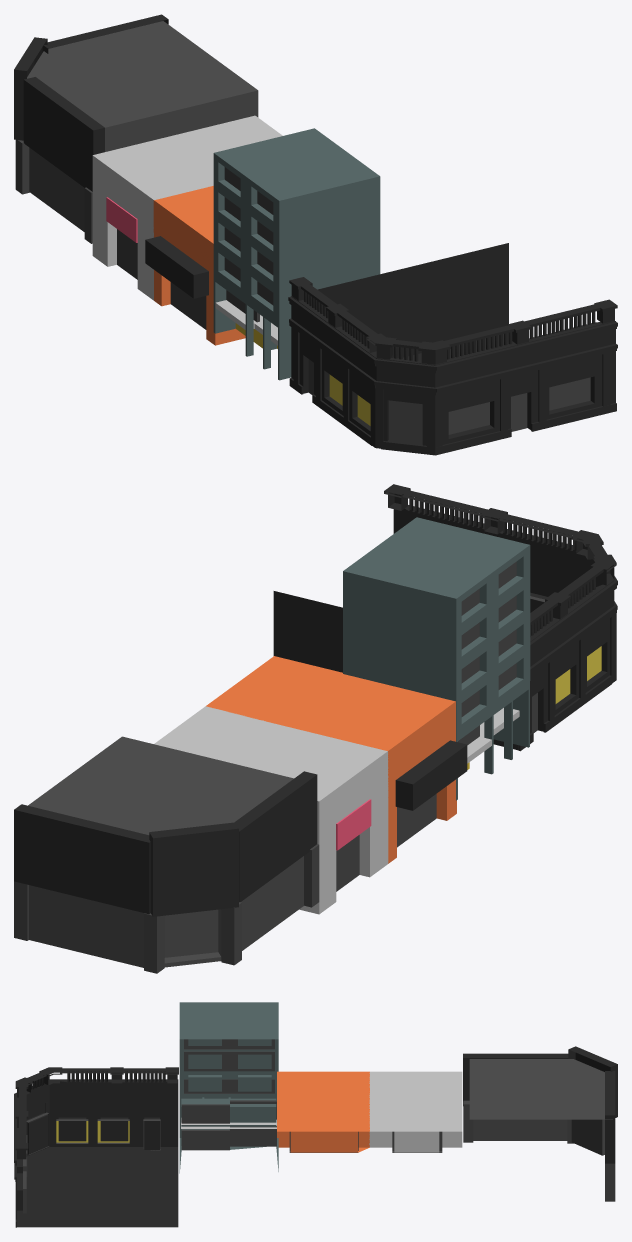
The model's file is Izq.fbx.
3 views of the same model, one above another, from view 1: azimuth 30°, elevation 25°; view 2: azimuth 150°, elevation 25°; view 3: azimuth 270°, elevation 25° (orthographic). The views are drawn at different scales.
Visible parts, largest first — view 1: SEPARADOR, ARRIBA, BASE, BASE3, Local-2, DEC, Derecho, Local-1, Ventanas y Puertas2, Cartel-1, BASE2, Ventanas Edificio (+7 smaller); view 2: SEPARADOR, BASE, Local-1, Local-2, ARRIBA, FrenteIzquierdo, Arriba, Derecho, BASE3, FrenteMedio, Cartel-1, Ventanas Edificio (+7 smaller); view 3: BASE3, BASE, SEPARADOR, Local-1, Local-2, ARRIBA, BASE2, Ventanas Edificio, Puertas y Ventanas, DEC, Puertas y Ventanas2, Ventanas y Puertas2 (+6 smaller).
Part boxes in pixels (x1=…): SEPARADOR: x1=213, y1=128, x2=380, y2=321; ARRIBA: x1=288, y1=243, x2=617, y2=395; BASE: x1=27, y1=21, x2=258, y2=231; BASE3: x1=291, y1=272, x2=615, y2=445; Local-2: x1=92, y1=115, x2=282, y2=300; DEC: x1=289, y1=329, x2=616, y2=455; Derecho: x1=23, y1=77, x2=104, y2=191; Local-1: x1=153, y1=186, x2=245, y2=345; Ventanas y Puertas2: x1=308, y1=359, x2=590, y2=443; Cartel-1: x1=145, y1=236, x2=208, y2=298; BASE2: x1=213, y1=274, x2=291, y2=380; Ventanas Edificio: x1=224, y1=167, x2=273, y2=305; SEPARADOR: x1=343, y1=517, x2=530, y2=734; BASE: x1=28, y1=736, x2=303, y2=967; Local-1: x1=206, y1=656, x2=456, y2=863; Local-2: x1=154, y1=706, x2=388, y2=914; ARRIBA: x1=273, y1=484, x2=617, y2=675; FrenteIzquierdo: x1=14, y1=804, x2=150, y2=914; Arriba: x1=149, y1=822, x2=238, y2=916; Derecho: x1=235, y1=771, x2=317, y2=902; BASE3: x1=273, y1=569, x2=609, y2=750; FrenteMedio: x1=14, y1=844, x2=319, y2=973; Cartel-1: x1=395, y1=740, x2=467, y2=810; Ventanas Edificio: x1=461, y1=561, x2=516, y2=716; BASE3: x1=17, y1=1101, x2=178, y2=1227; BASE: x1=469, y1=1059, x2=612, y2=1155; SEPARADOR: x1=179, y1=1002, x2=278, y2=1093; Local-1: x1=277, y1=1071, x2=369, y2=1152; Local-2: x1=369, y1=1071, x2=462, y2=1152; ARRIBA: x1=14, y1=1067, x2=178, y2=1181; BASE2: x1=179, y1=1093, x2=278, y2=1173; Ventanas Edificio: x1=184, y1=1039, x2=274, y2=1093; Puertas y Ventanas: x1=181, y1=1126, x2=276, y2=1150; DEC: x1=15, y1=1101, x2=178, y2=1227; Puertas y Ventanas2: x1=181, y1=1100, x2=276, y2=1123; Ventanas y Puertas2: x1=23, y1=1112, x2=160, y2=1213.
Bounding box in the file's own units: 5420 × 4063 × 15327.
